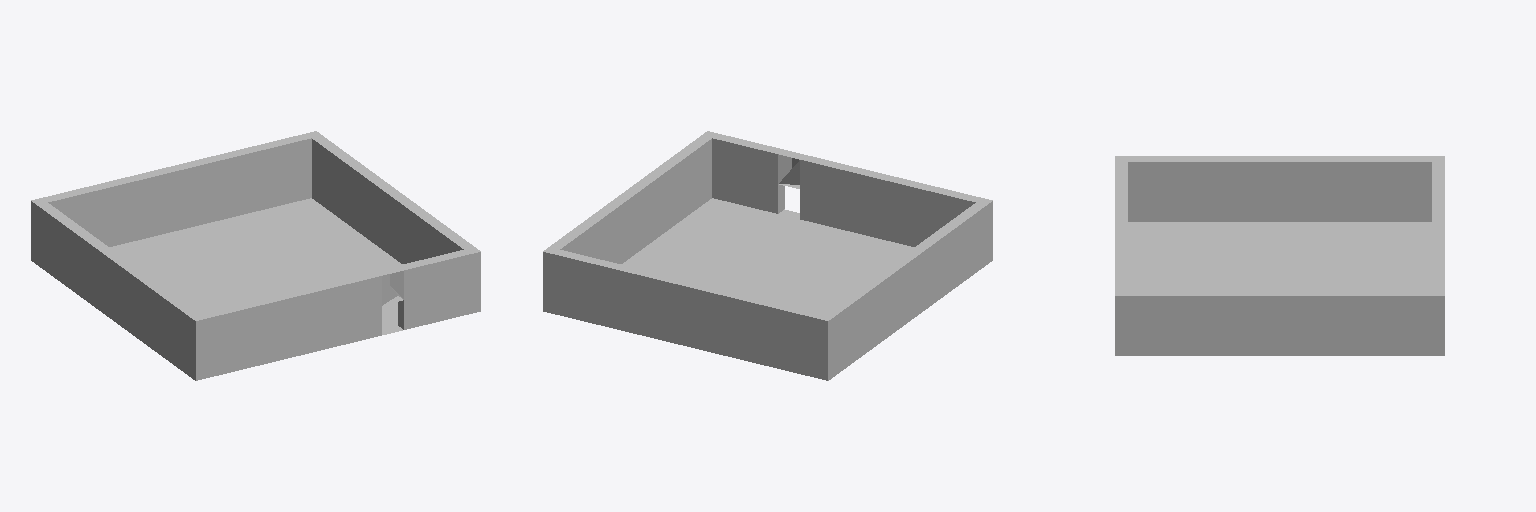
Rendered from DeadEnd1.obj.
The picture shows the model from 3 angles: view 1: azimuth 30°, elevation 25°; view 2: azimuth 150°, elevation 25°; view 3: azimuth 270°, elevation 25°; orthographic projection.
Visible parts, largest first — view 1: Plane; view 2: Plane; view 3: Plane.
Part boxes in pixels (x1,y1,x2,y2): Plane: (31,131,480,380); Plane: (543,131,992,380); Plane: (1115,156,1444,355).
Bounding box in the file's own units: 20 × 4 × 20.